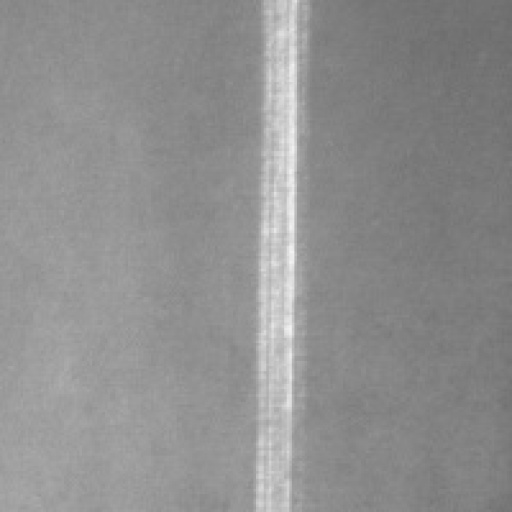scratches: (239, 2, 316, 510)
